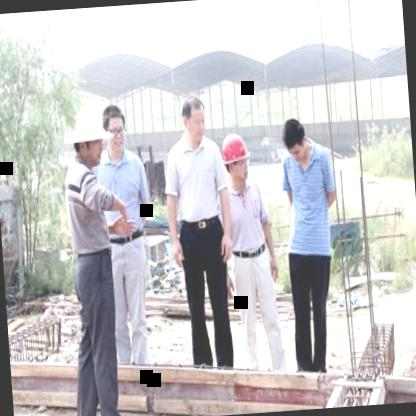head: (178, 93, 210, 146), (279, 115, 312, 166), (101, 102, 130, 156)
helmet: (66, 107, 110, 171), (219, 130, 252, 190)
